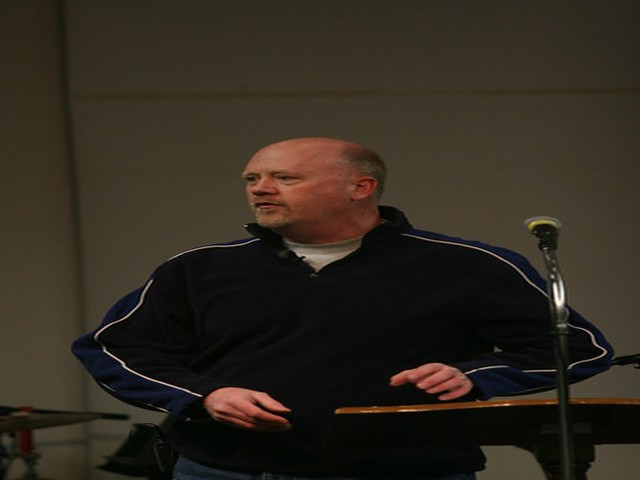Person: (71, 129, 537, 414)
